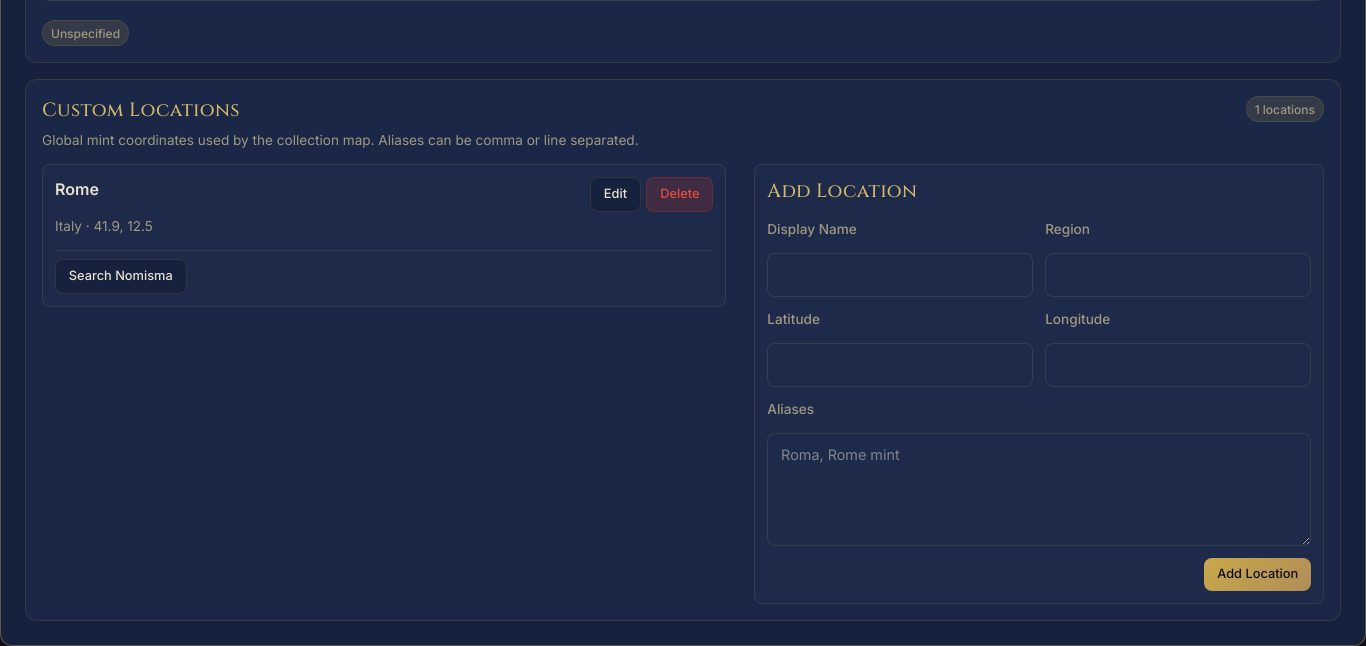
Scenario: AdminCoinPropertiesSection - Nomisma authority linking › does not persist any link when the admin cancels the search without confirming
The width and height of the screenshot is (1366, 646).
(page scrolled)
Click the button "Search Nomisma".
click(121, 277)  # box [55,259,186,294]
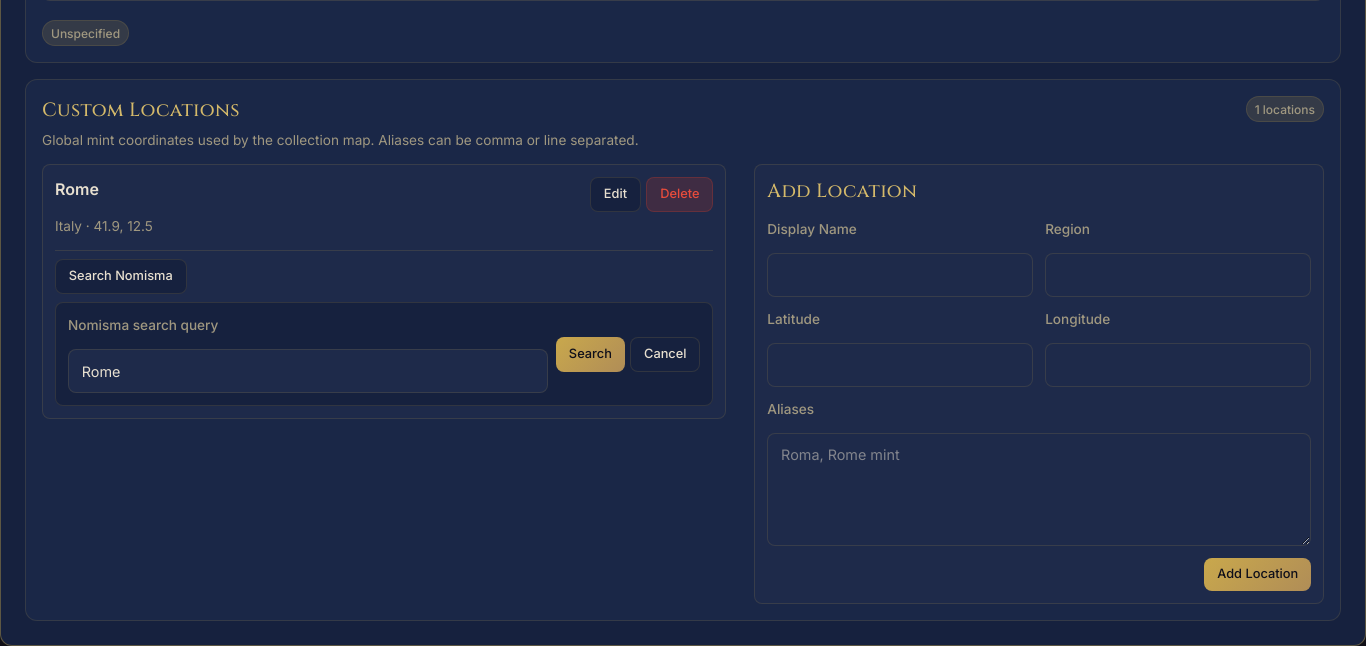
Submit the form with class "nomisma-search-form", box [68,315,700,393]
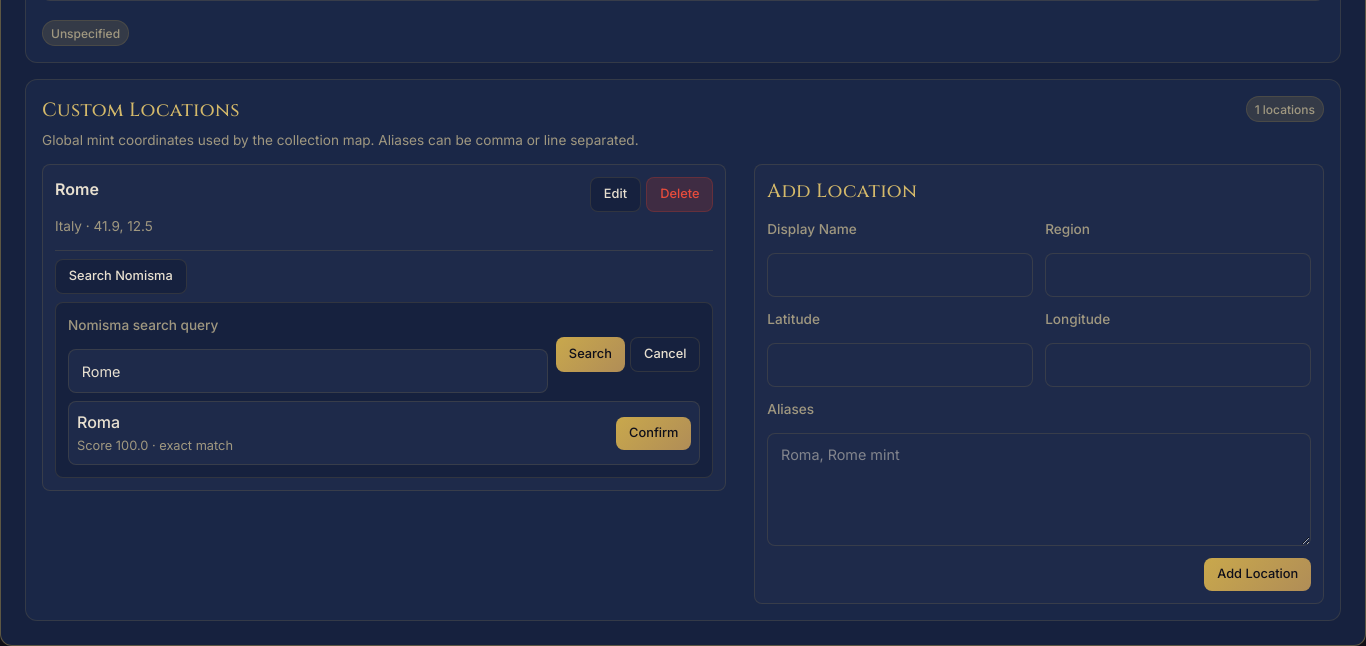
Expected: the text "Roma" is shown, [77,412,120,432]
Click the button "Cancel".
click(665, 354)  # box [630,337,700,372]
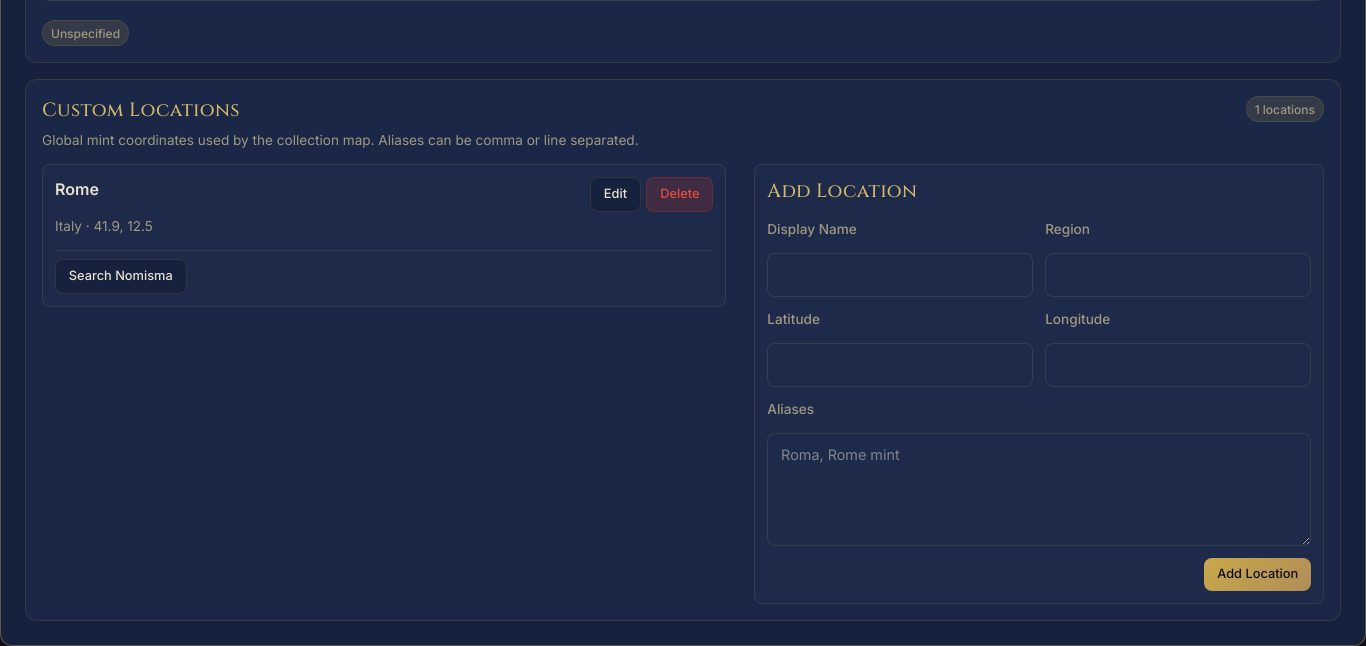
Expected: the text "Score 100.0" is gone
